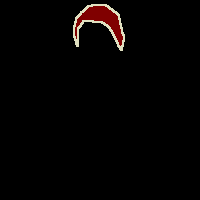hat: (74, 4, 124, 50)
